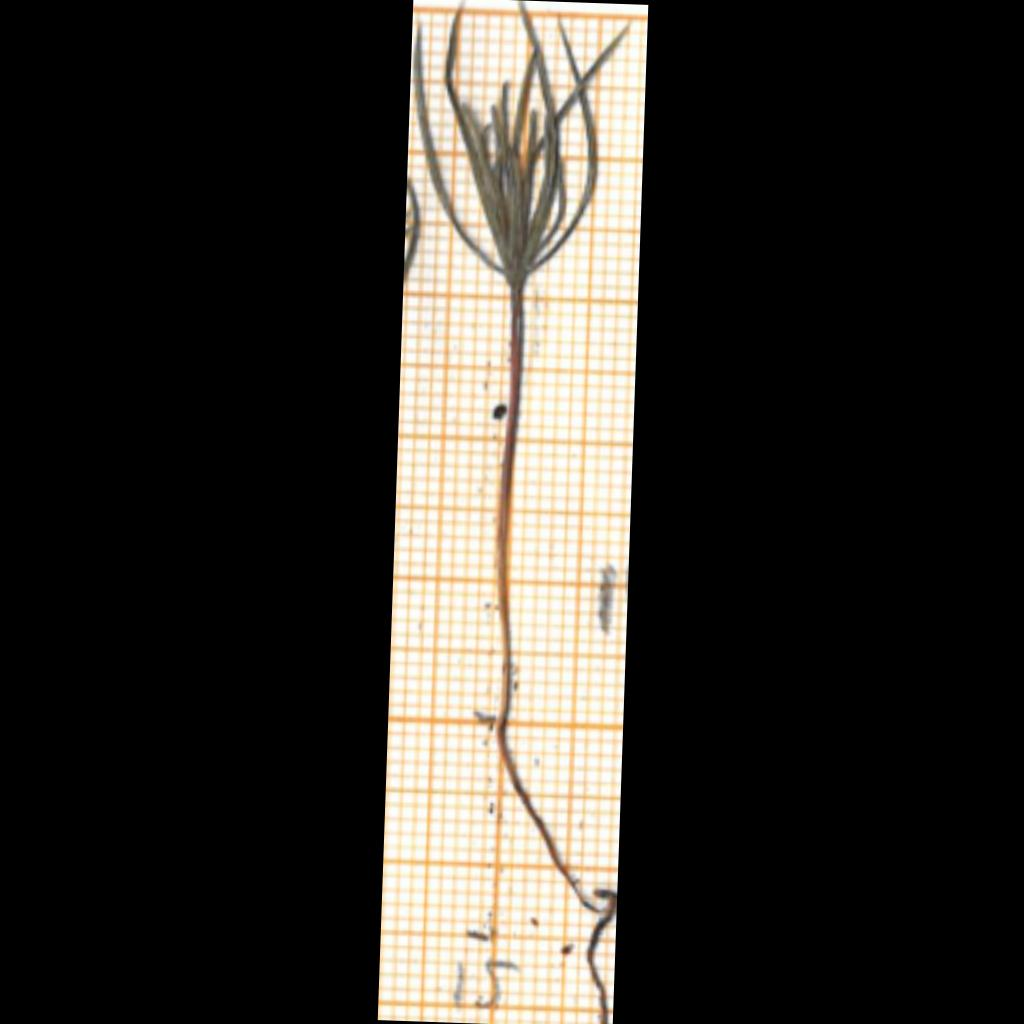flowerPinus: (413, 1, 621, 291)
rootPinus: (498, 731, 616, 1023)
stemPinus: (497, 297, 524, 722)
